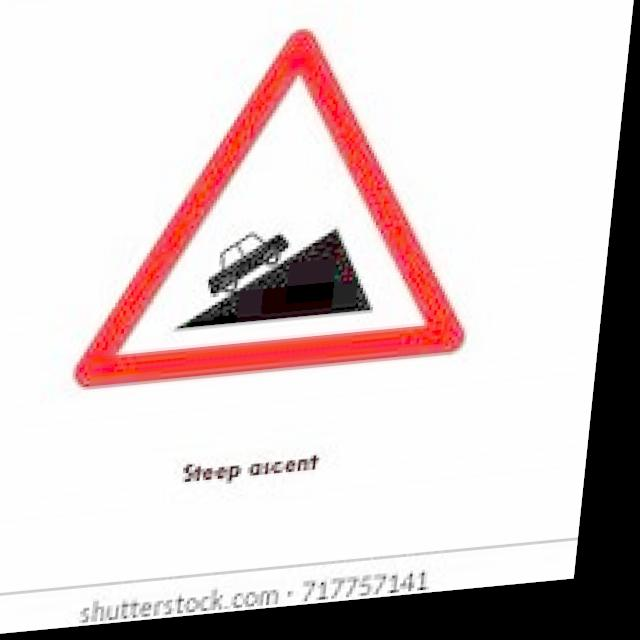STEEP_ASCENT: (65, 7, 540, 406)
